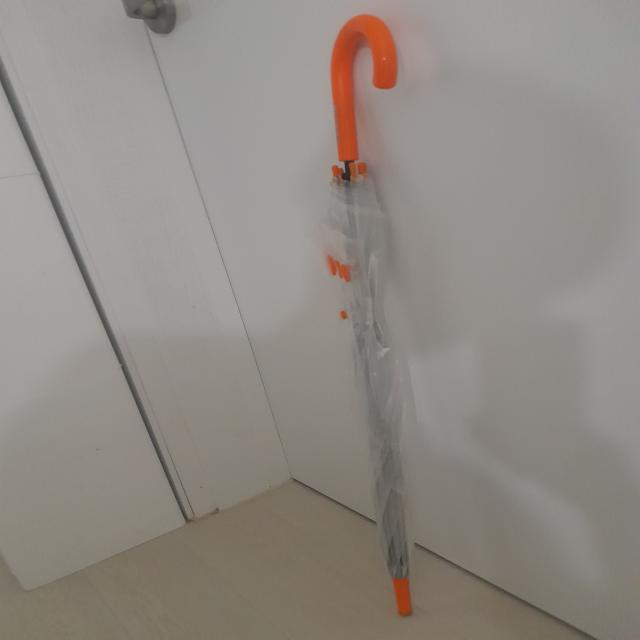umbrella: (320, 18, 417, 617)
